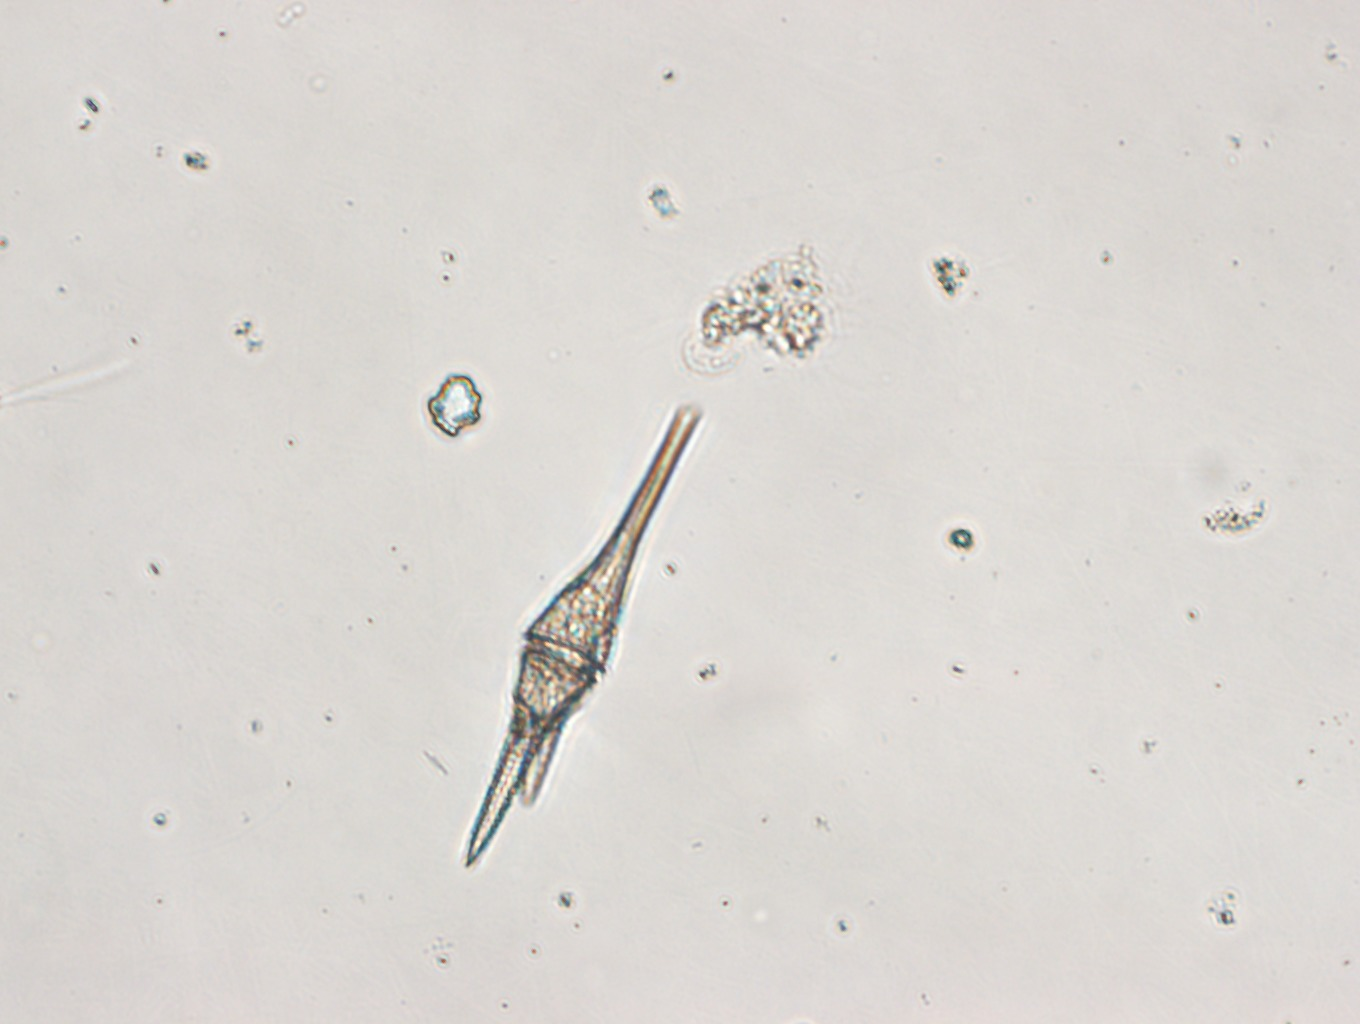ceratium furca: (460, 399, 711, 874)
